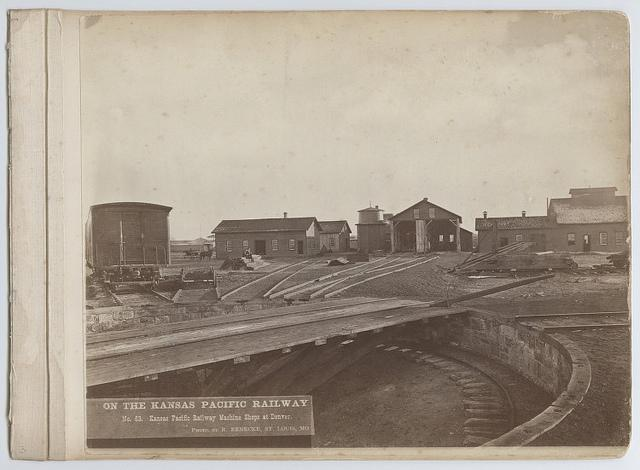Train: (84, 202, 175, 294)
